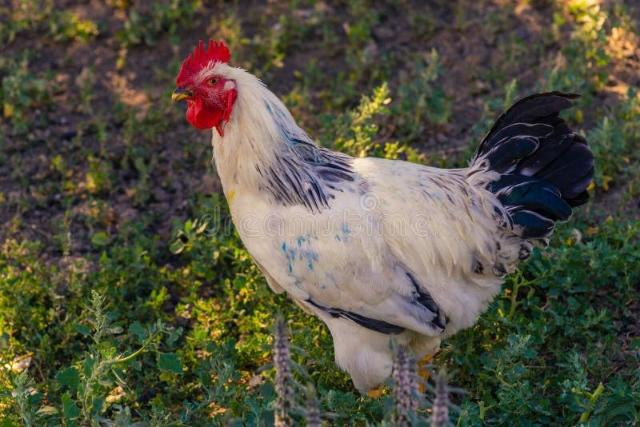Chicken: (171, 40, 594, 406)
